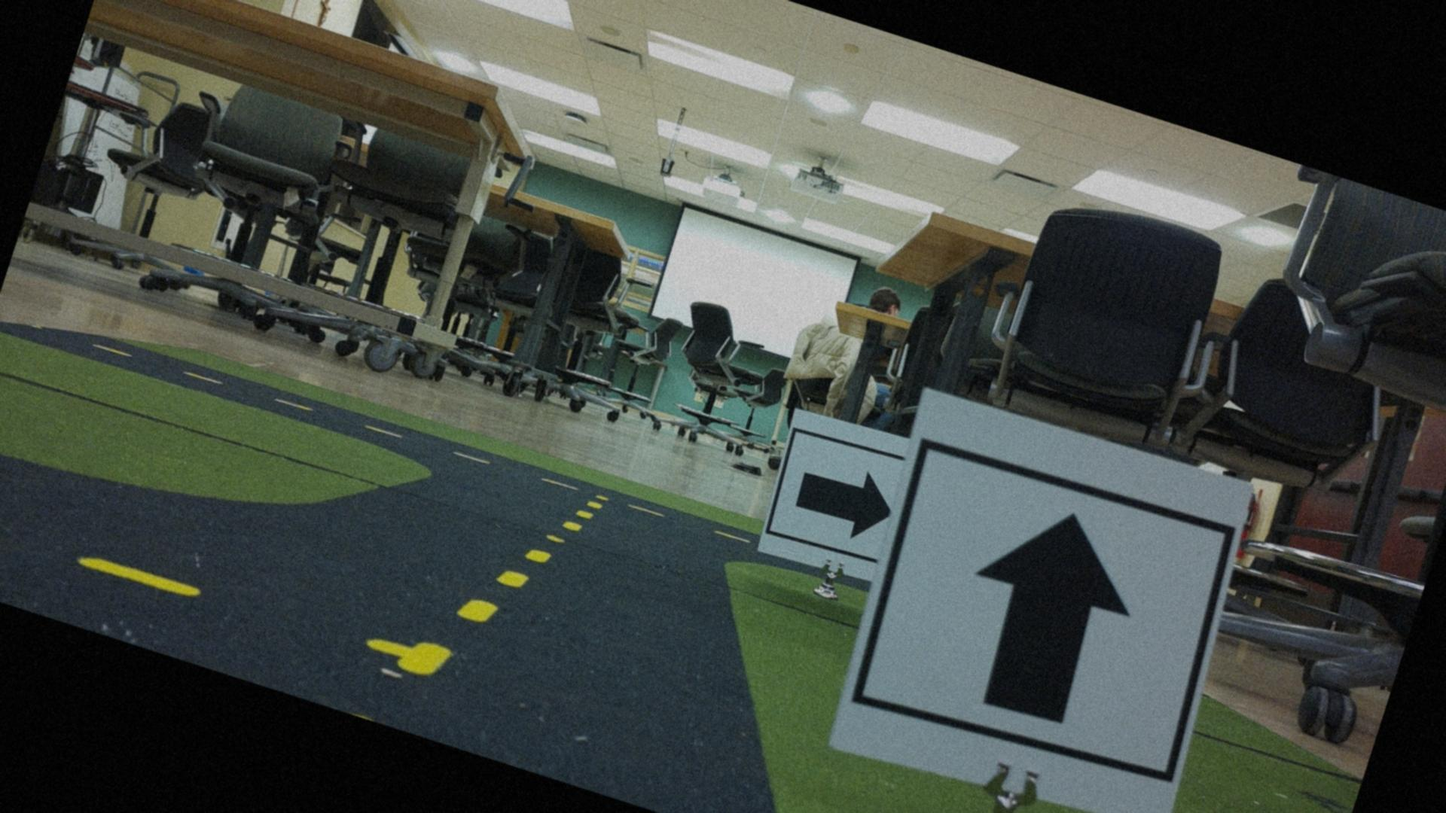gostraight: (831, 394, 1244, 812)
turnleft: (761, 425, 911, 580)
yellowline: (399, 459, 600, 711)
